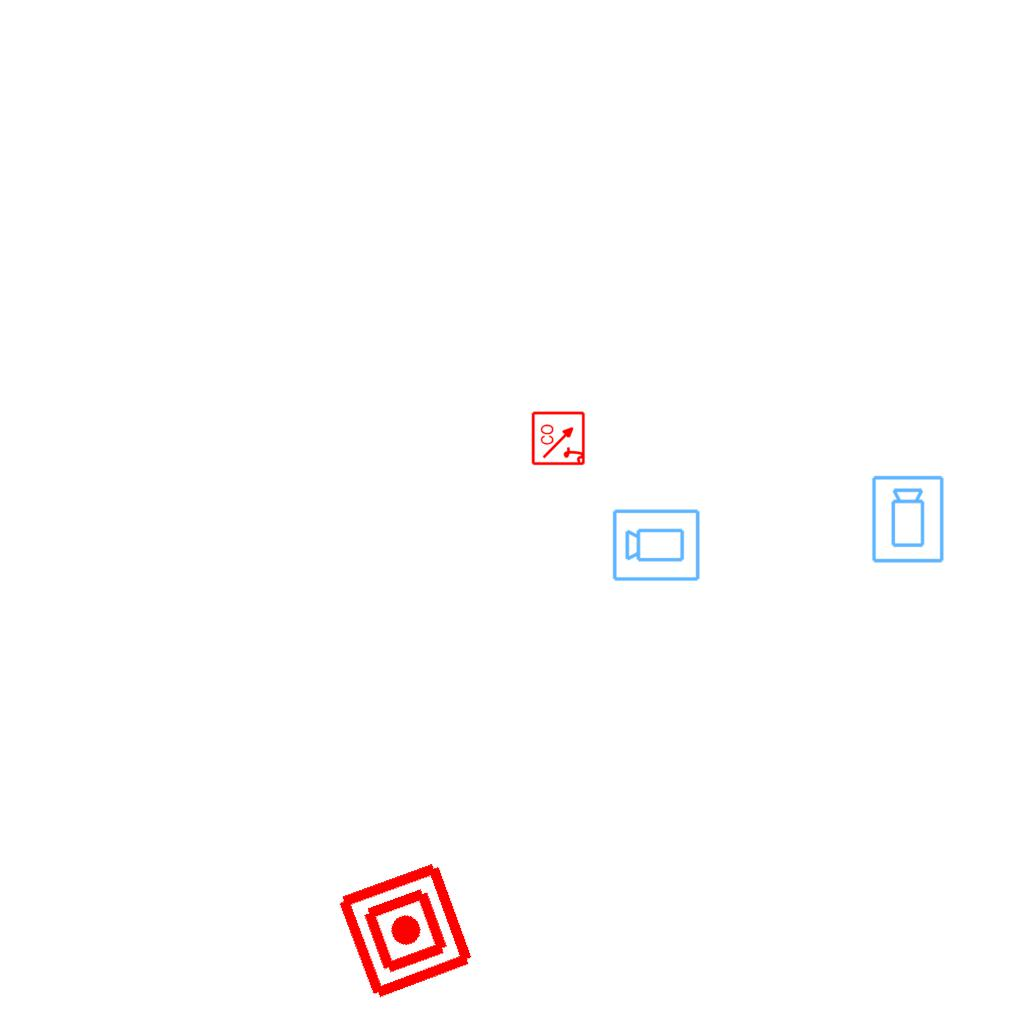KFO_Kamera_mit_Festobjektiv: (611, 506, 702, 583), (870, 474, 947, 565)
NAM-Nichtautomatischer_Melder: (333, 858, 478, 1003)
ROA_Rauchmelder_optisch_mit_Signalgeber_(Sockelsirene): (531, 410, 587, 466)
